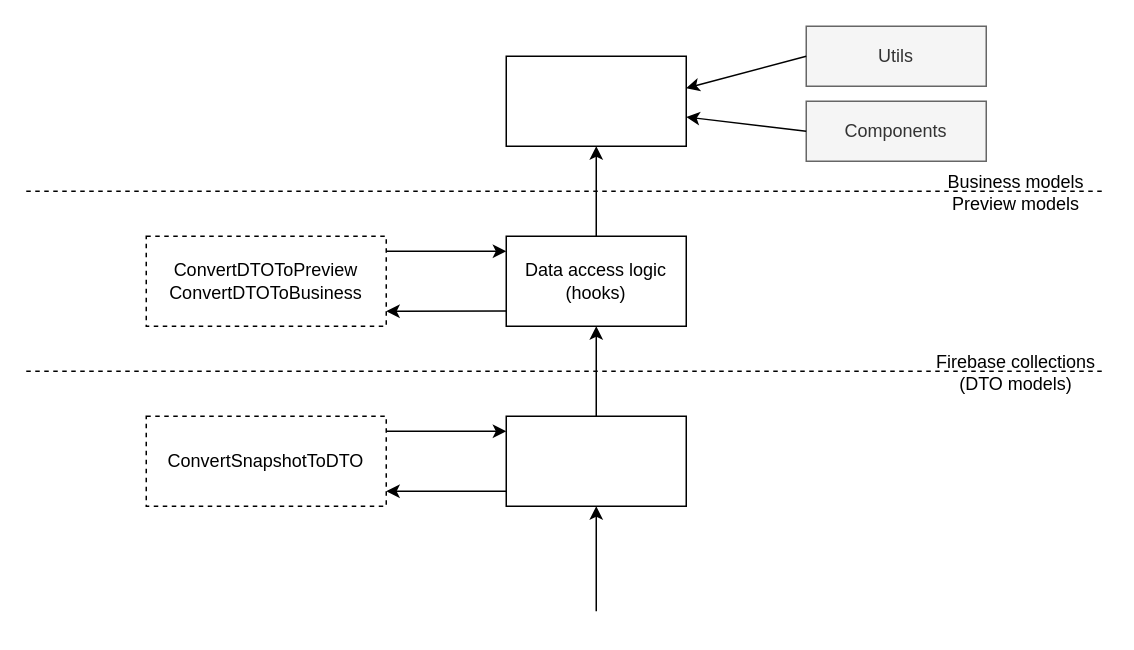
Image size: 1134x650. Some labels were removed from this diagram. The centre of each missing label's shape, as x and y in pixels:
"Service" belongs at (x=595, y=460).
"VIEW (render)" belongs at (x=595, y=100).
